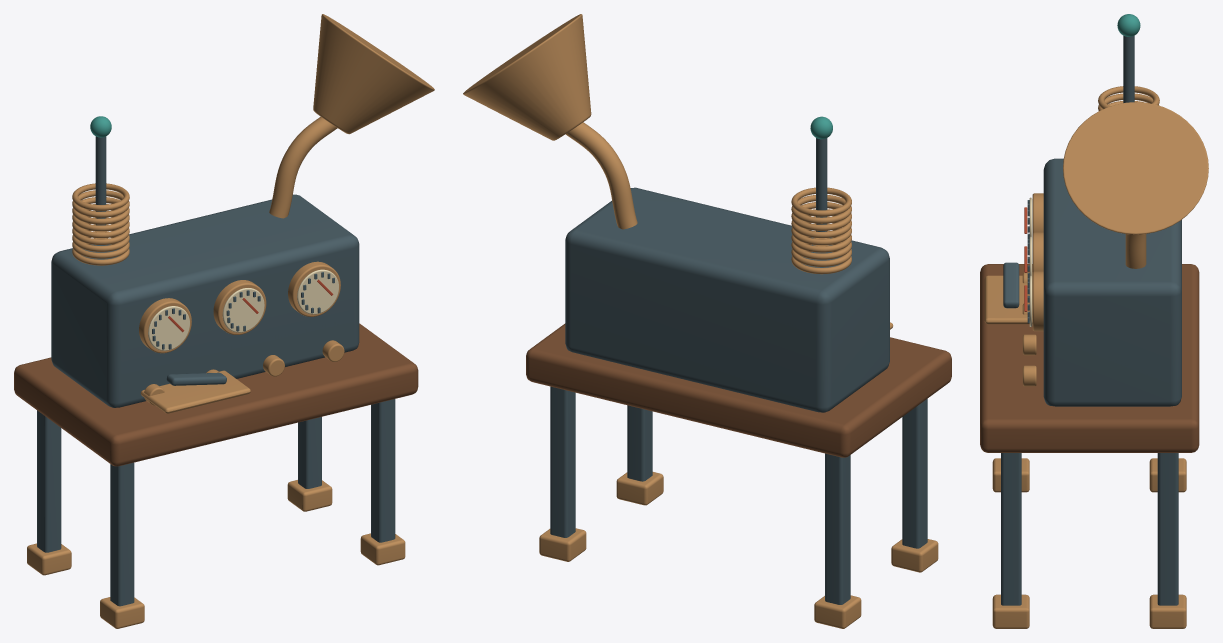
The model's file is Telegraph.fbx.
The picture shows the model from 3 angles, left to right: view 1: azimuth 30°, elevation 25°; view 2: azimuth 150°, elevation 25°; view 3: azimuth 270°, elevation 25°; orthographic projection. The views are drawn at different scales.
Visible parts, largest first — view 1: Telegraph; view 2: Telegraph; view 3: Telegraph.
Part boxes in pixels (bbox=[...]): Telegraph: bbox=[14, 14, 434, 628]; Telegraph: bbox=[463, 14, 951, 628]; Telegraph: bbox=[980, 14, 1208, 628].
Bounding box in the file's own units: 205 × 99.12 × 251.
